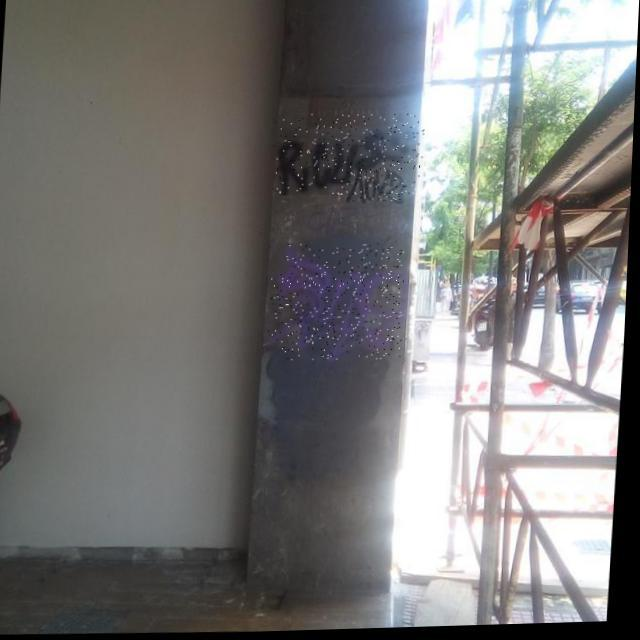-: (269, 243, 410, 364), (272, 112, 426, 200), (347, 169, 410, 204)
